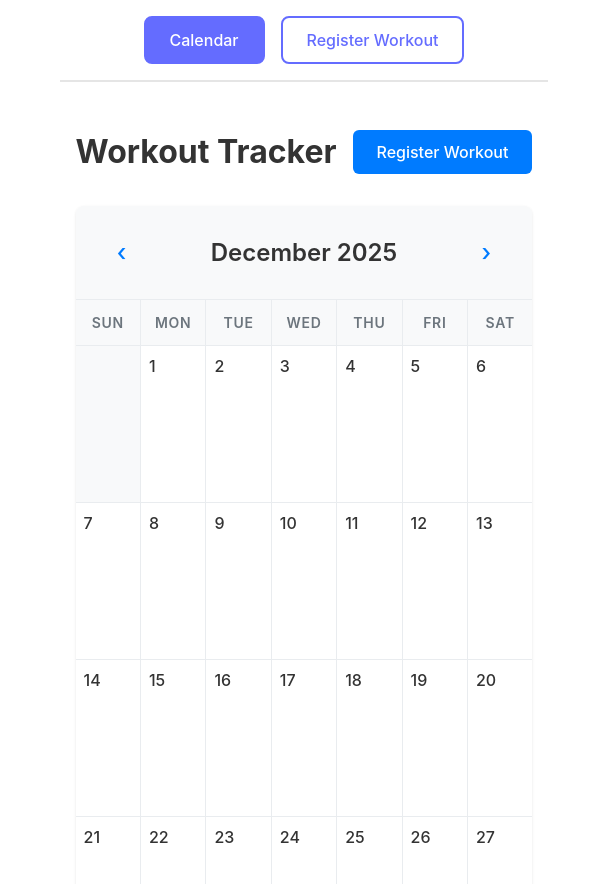
Workout Tracker Integration Tests › Error Handling › should handle localStorage unavailable gracefully
The width and height of the screenshot is (609, 884).
Expected: the heading "Workout Tracker" is shown, [76,134,336,170]
Try to navigate to registration
Click the button "Register Workout" next to "Workout Tracker" at (442, 152), box [352,130,532,174]
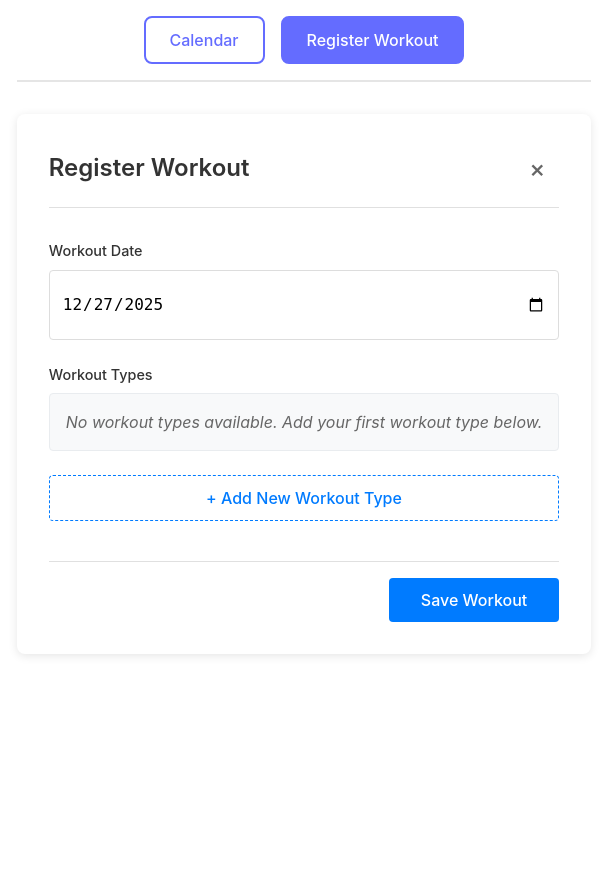
Expected: the heading "Register Workout" is shown, [49,155,250,182]
